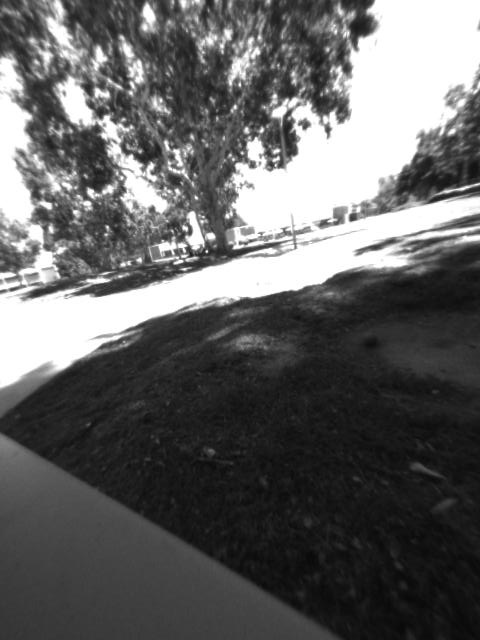dogtoy: (356, 321, 385, 353)
